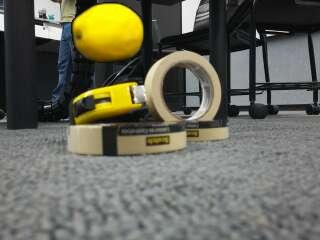lemon: (73, 5, 143, 63)
